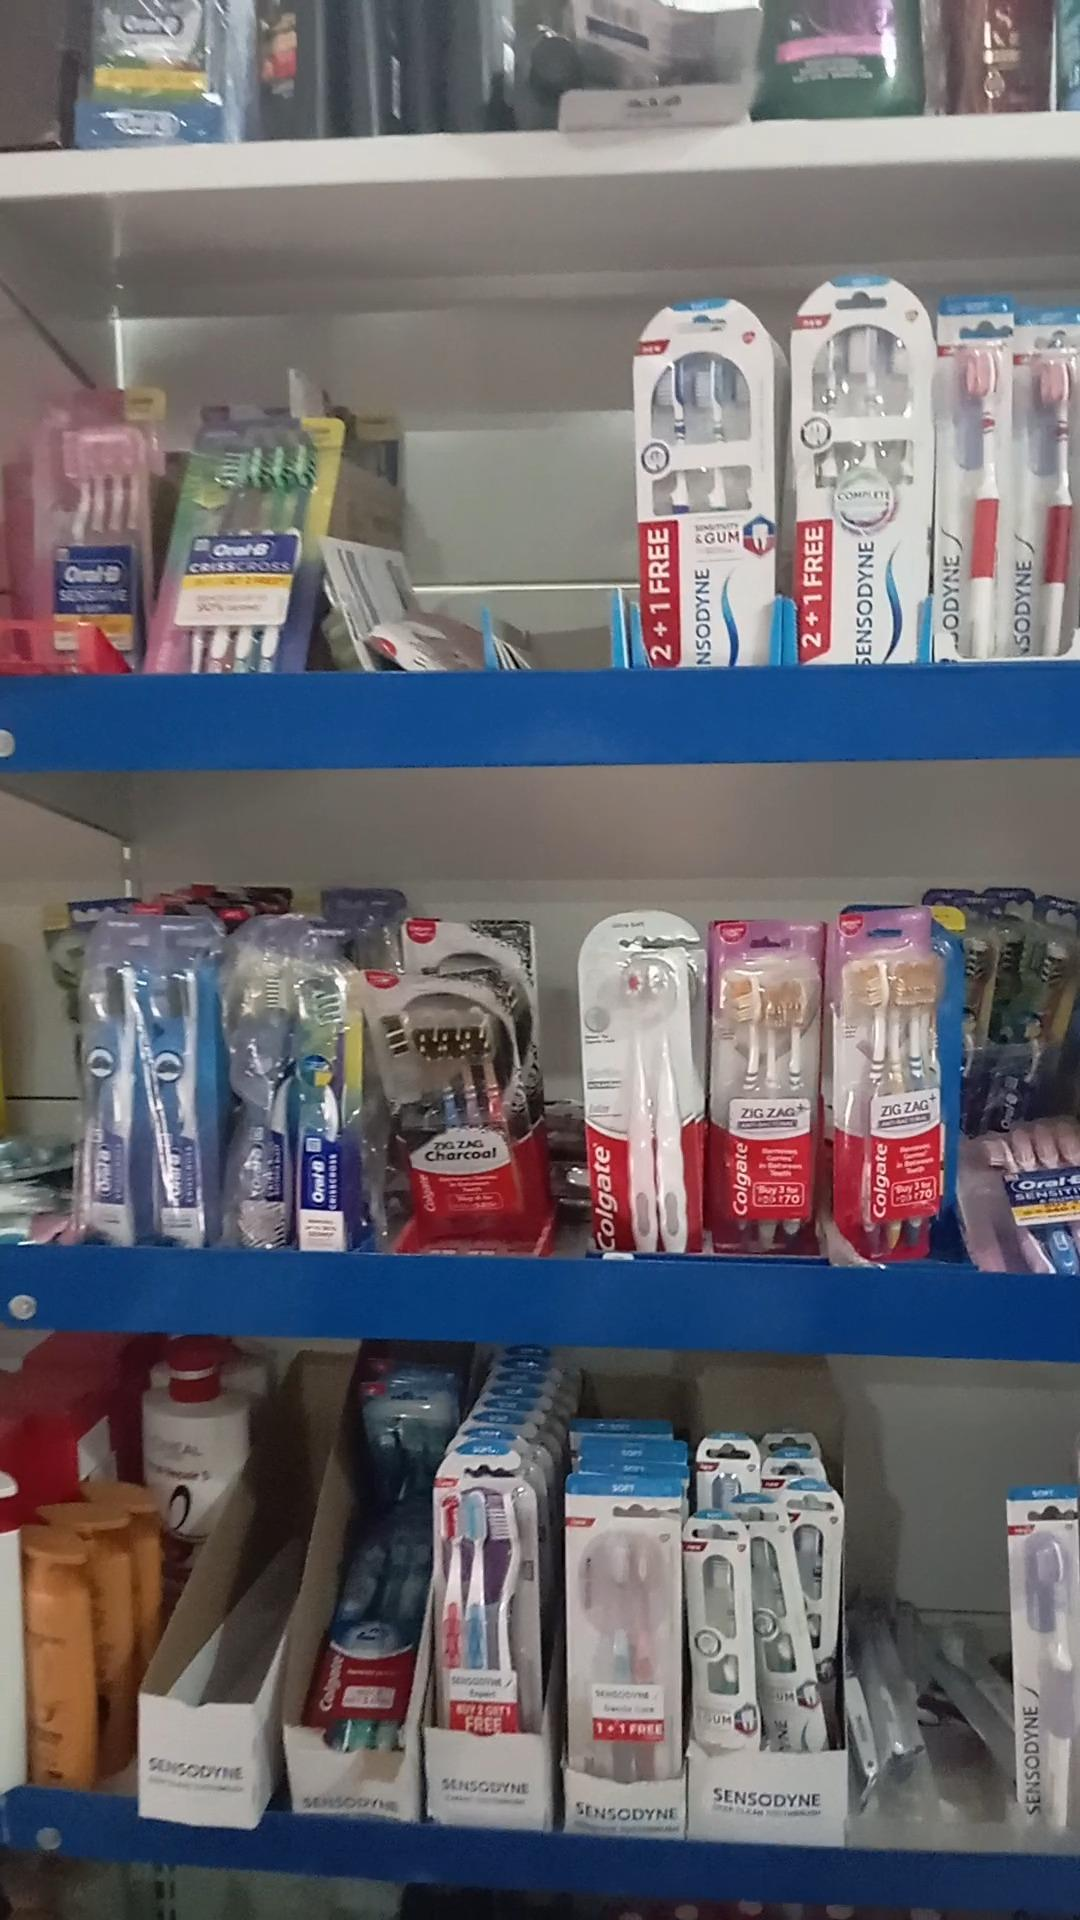10: (37, 396, 146, 674)
16: (634, 297, 771, 663)
4: (791, 276, 931, 665)
6: (434, 1441, 538, 1733)
7: (568, 1476, 679, 1783)
9: (293, 943, 351, 1250)
liquid soap: (375, 973, 529, 1233)
